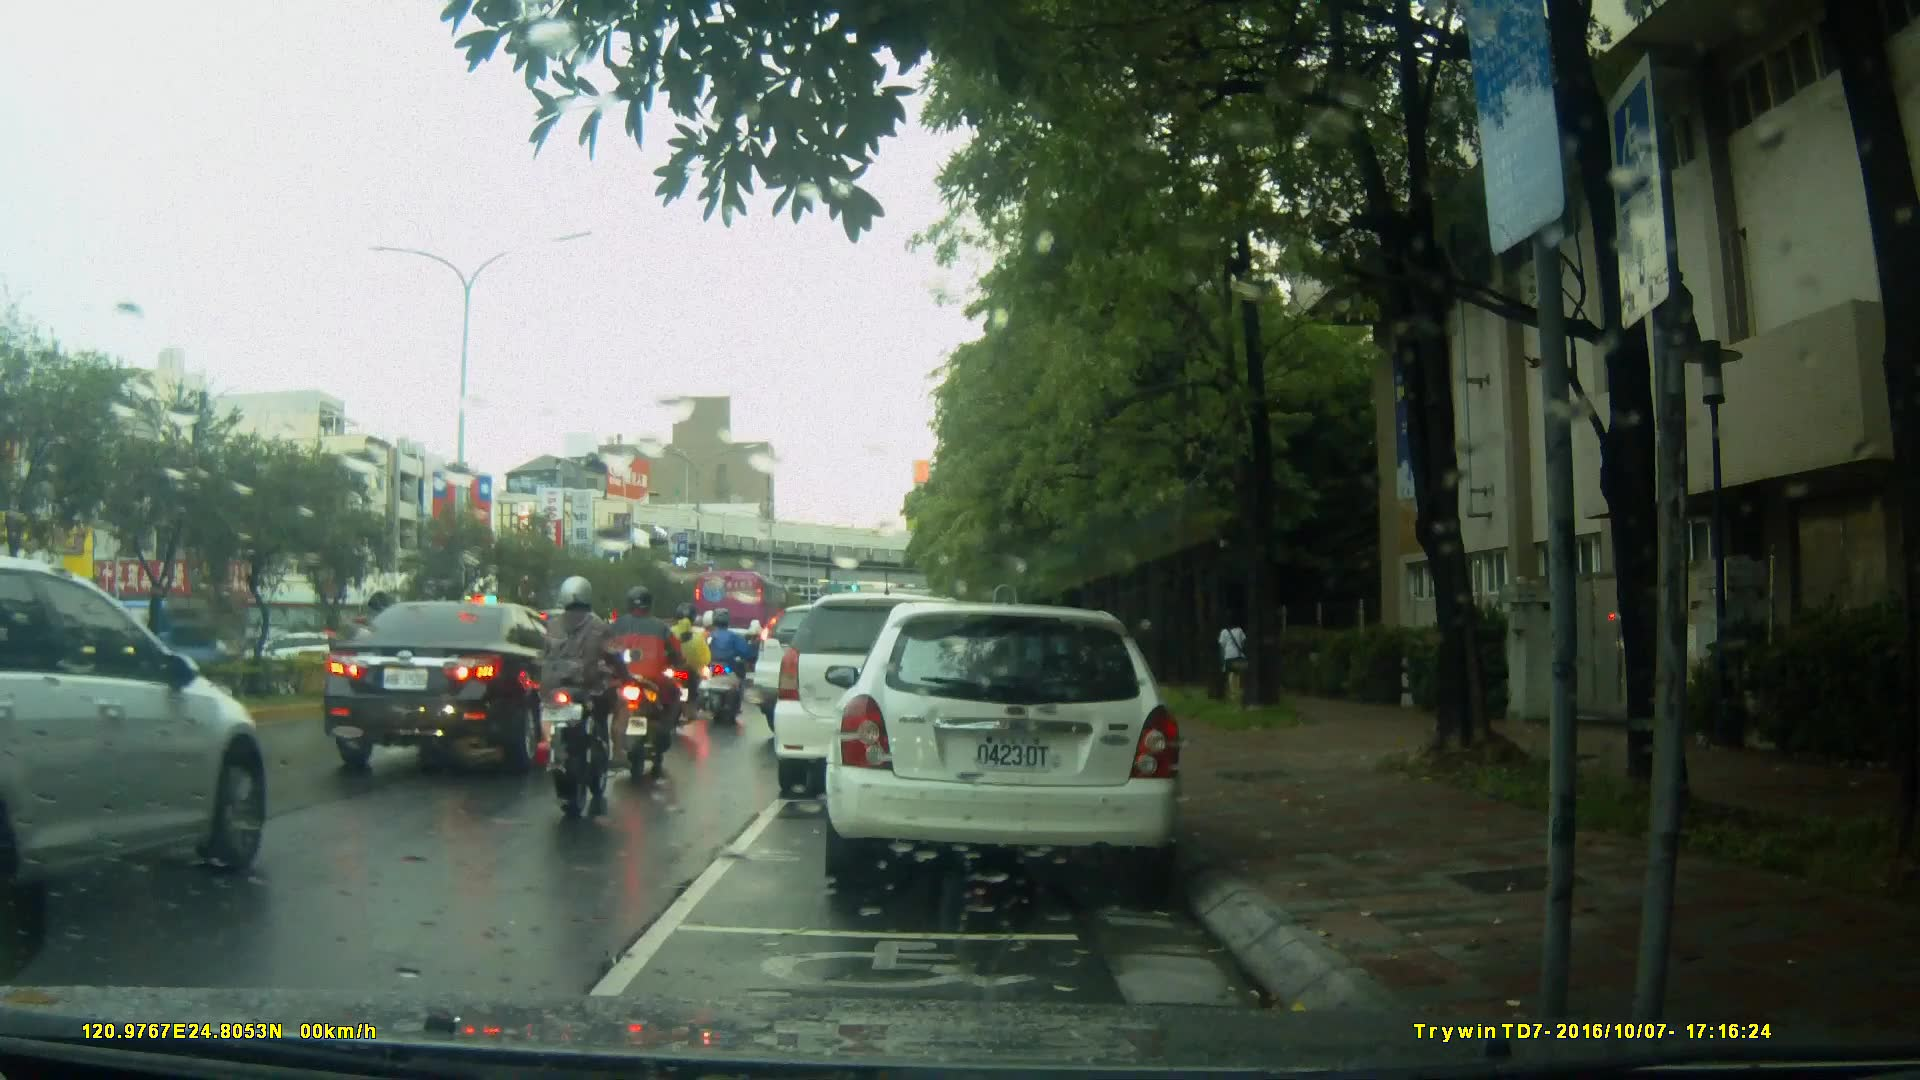pedestrian: (1215, 612, 1255, 707)
rider: (539, 578, 629, 835), (603, 579, 700, 774), (706, 605, 753, 727), (666, 602, 710, 726)
vehicle: (835, 594, 1194, 898), (2, 554, 274, 945), (318, 599, 614, 778), (776, 590, 1026, 784), (690, 569, 788, 646)
